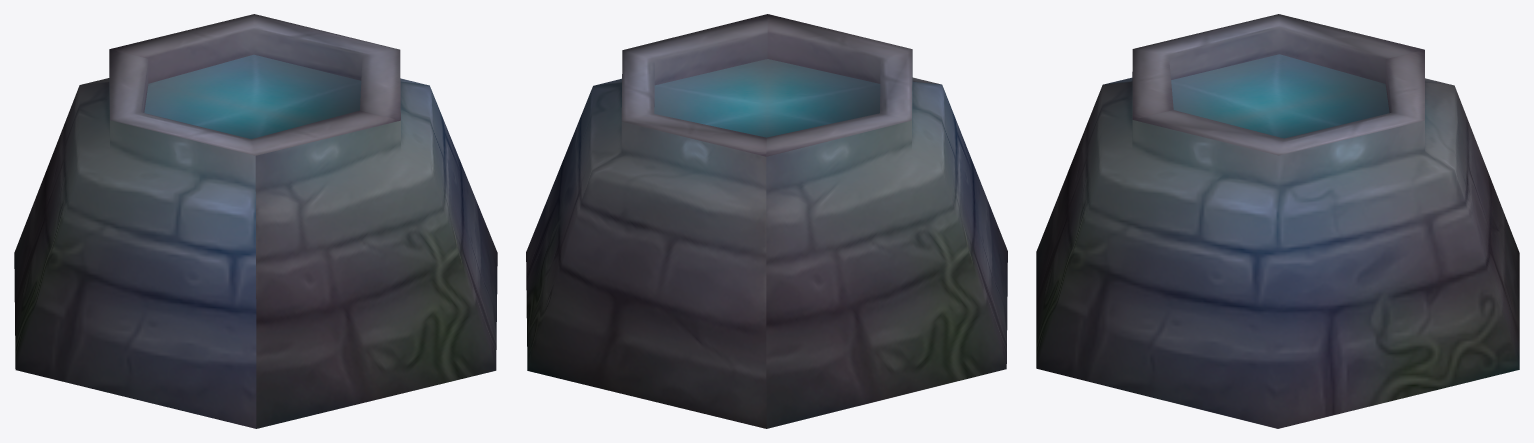
The model's file is TwistedJungle_Well02.FBX.
3 views of the same model, side by side, from view 1: azimuth 30°, elevation 25°; view 2: azimuth 150°, elevation 25°; view 3: azimuth 270°, elevation 25° (orthographic).
Visible parts, largest first — view 1: TwistedJungle_Well02; view 2: TwistedJungle_Well02; view 3: TwistedJungle_Well02.
Boxes of the visible parts, x1,y1,x2,y2 form: TwistedJungle_Well02: [14, 14, 497, 428]; TwistedJungle_Well02: [526, 14, 1007, 428]; TwistedJungle_Well02: [1036, 14, 1519, 428].
Size of the model in its own units: 394 by 178 by 343.
